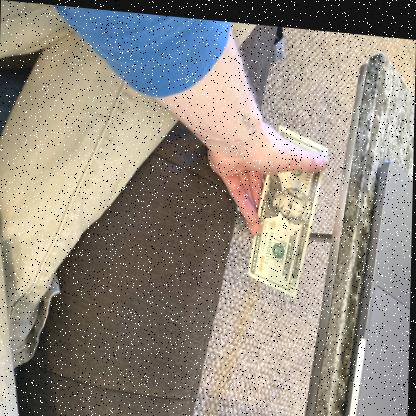twenty-front: (247, 119, 328, 295)
